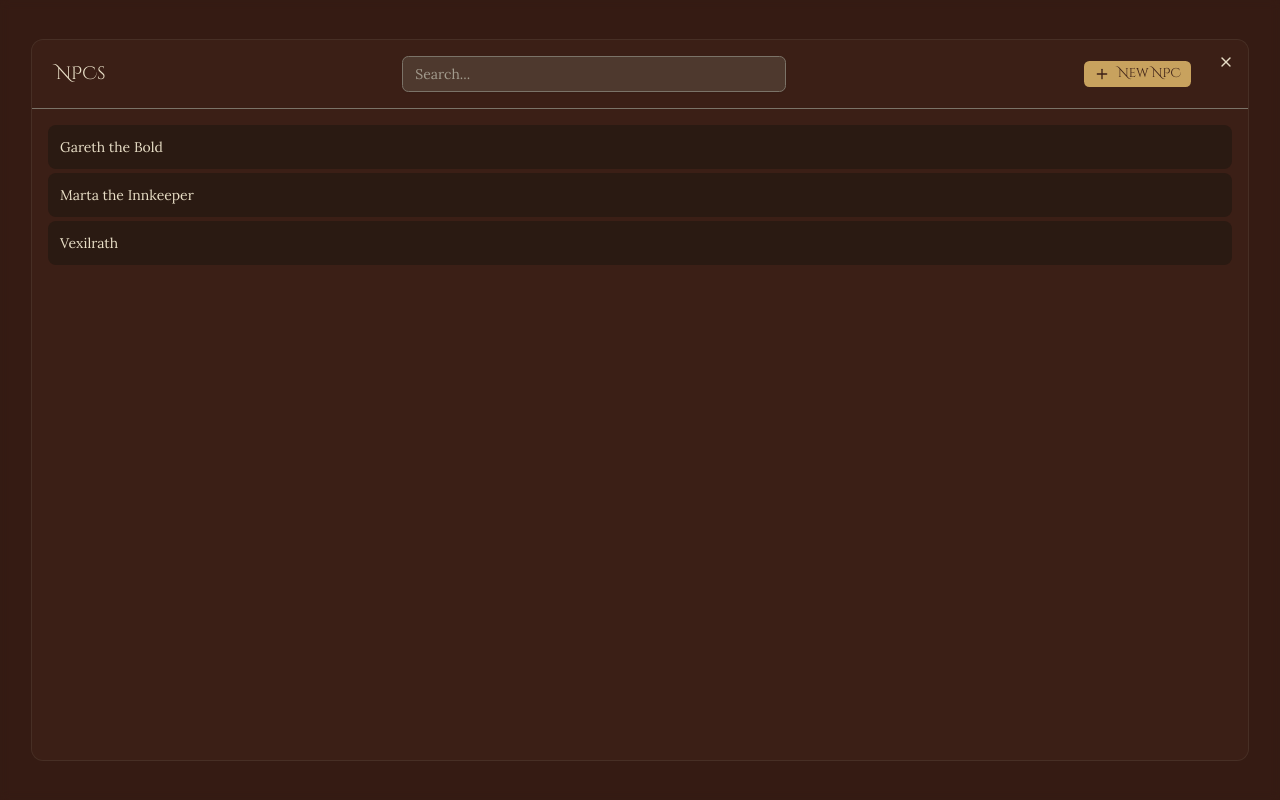
Test: MasterDetailModal — Search › shows no-results message when search matches nothing
Type "zzznotreal" into the search field with placeholder "Search...". click: (594, 74)
box: [402,56,786,92]
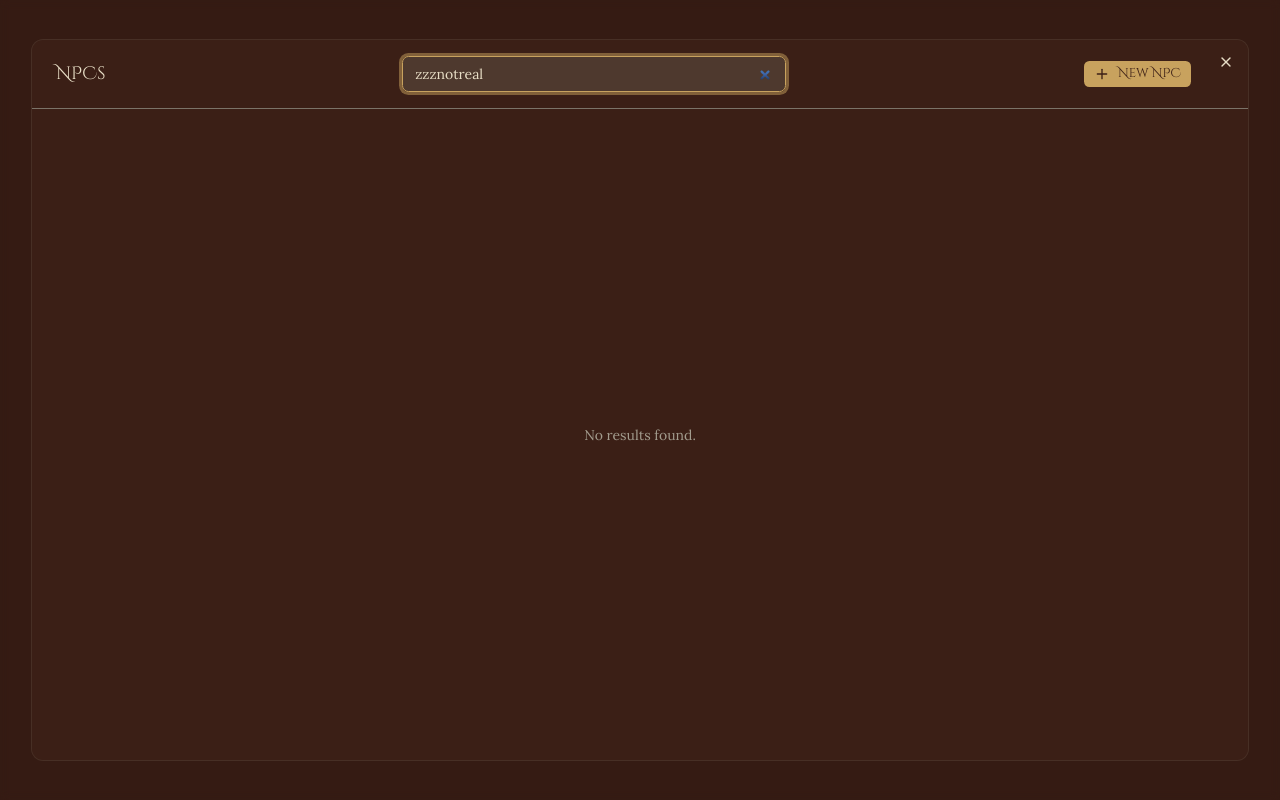
Now the text "No results found." is shown, box [584,426,696,444]
